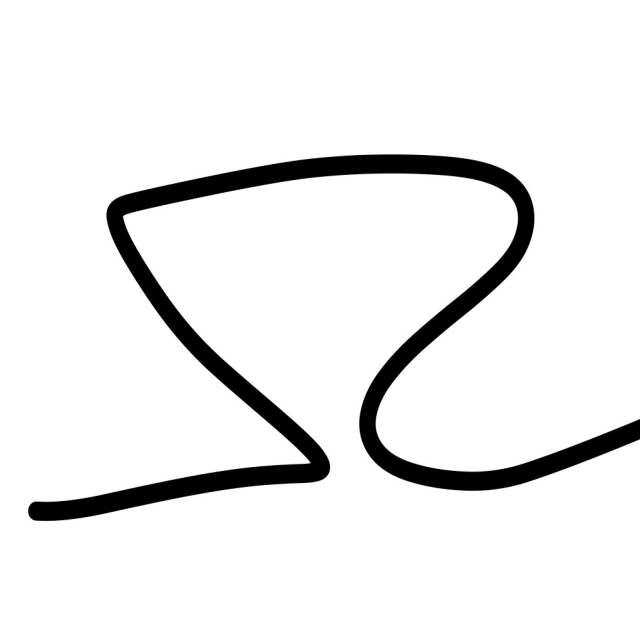ohms: (2, 50, 640, 593)
